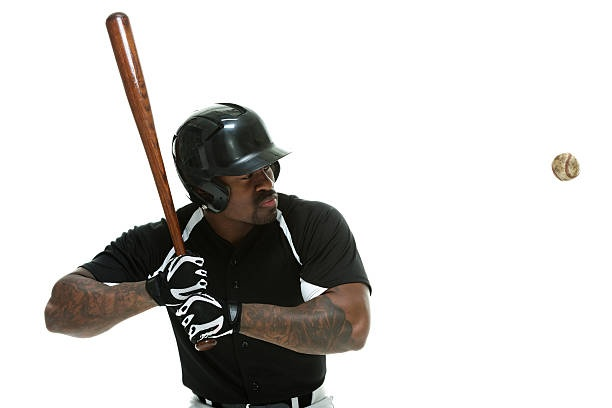bita: (106, 11, 211, 350)
